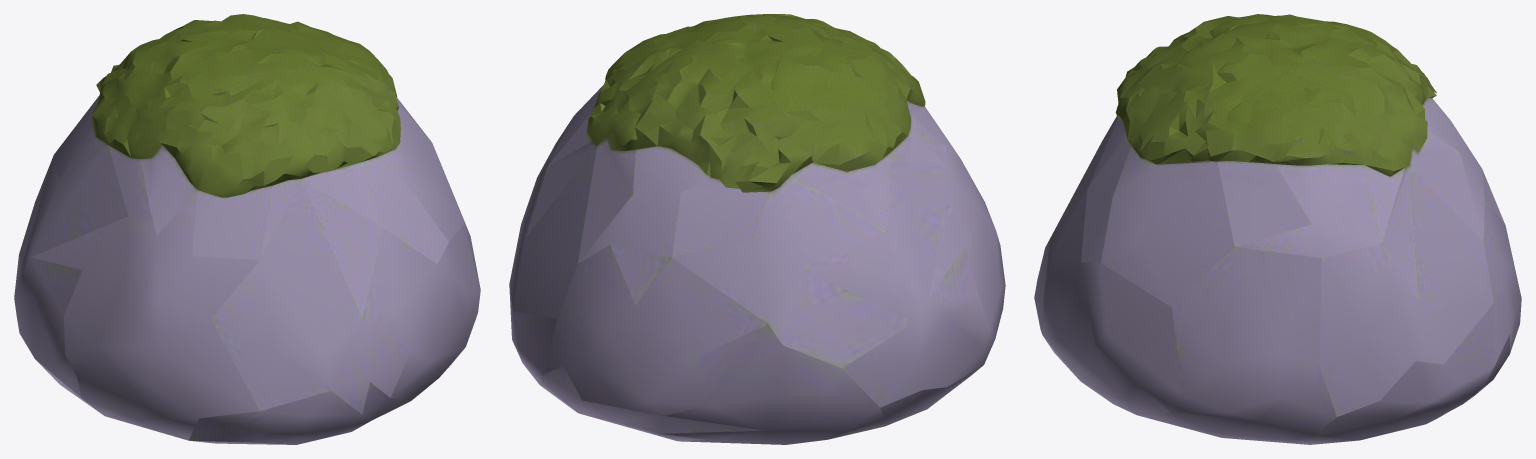
Rendered from rock.glb.
3 renders of one model, left to right at view 1: azimuth 30°, elevation 25°; view 2: azimuth 150°, elevation 25°; view 3: azimuth 270°, elevation 25°, orthographic. The views are drawn at different scales.
Bounding box in the file's own units: 1.89 × 1.45 × 1.9.
1 material, 1 textured.
